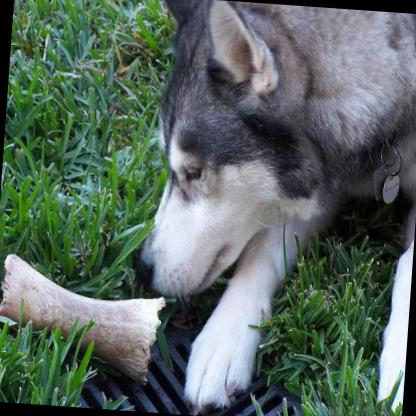Eskimo_dog: (123, 0, 416, 416)
